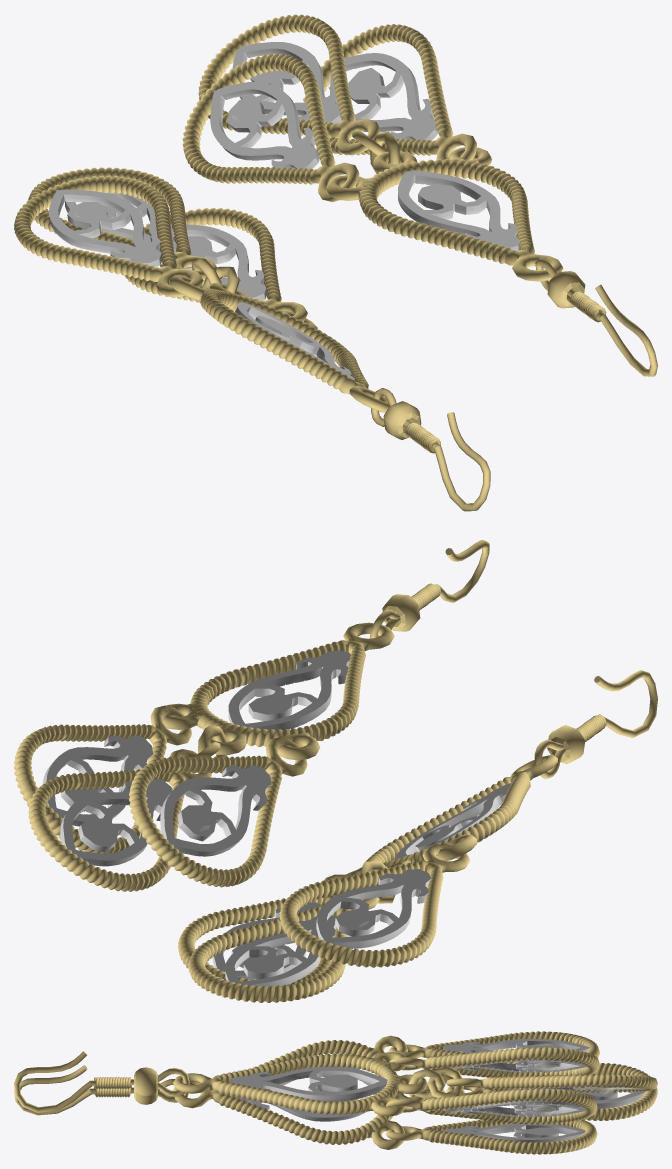
Rendered from 11763_earings_v1_L1.glb.
3 views of the same model, one above another, from view 1: azimuth 30°, elevation 25°; view 2: azimuth 150°, elevation 25°; view 3: azimuth 270°, elevation 25° (orthographic). The views are drawn at different scales.
Visible parts, largest first — view 1: 11763_Earings_gold4, 11763_Earings_gold1, 11763_Earings_gold007, 11763_Earings_gold010, 11763_Earings_gold2, 11763_Earings_silver3, 11763_Earings_silver1, 11763_Earings_silver006, 11763_Earings_gold3, 11763_Earings_silver2, 11763_Earings_gold006, 11763_Earings_gold008 (+8 smaller); view 2: 11763_Earings_gold4, 11763_Earings_gold1, 11763_Earings_gold007, 11763_Earings_silver3, 11763_Earings_gold2, 11763_Earings_silver1, 11763_Earings_silver006, 11763_Earings_gold3, 11763_Earings_gold006, 11763_Earings_gold010, 11763_Earings_silver4, 11763_Earings_silver005 (+7 smaller); view 3: 11763_Earings_gold4, 11763_Earings_gold010, 11763_Earings_gold3, 11763_Earings_gold1, 11763_Earings_silver1, 11763_Earings_gold008, 11763_Earings_gold2, 11763_Earings_1, 11763_Earings_silver007, 11763_Earings_gold007, 11763_Earings_gold006, 11763_Earings_silver2 (+9 smaller).
Part boxes in pixels (x1,y1,x2,y2): 11763_Earings_gold4: [326, 147, 563, 281]; 11763_Earings_gold1: [182, 53, 359, 201]; 11763_Earings_gold007: [14, 175, 203, 296]; 11763_Earings_gold010: [169, 275, 389, 412]; 11763_Earings_gold2: [198, 14, 380, 155]; 11763_Earings_silver3: [210, 81, 319, 169]; 11763_Earings_silver1: [398, 170, 519, 250]; 11763_Earings_silver006: [49, 189, 162, 267]; 11763_Earings_gold3: [301, 24, 476, 160]; 11763_Earings_silver2: [330, 53, 438, 140]; 11763_Earings_gold006: [28, 167, 216, 279]; 11763_Earings_gold008: [125, 208, 307, 321]; 11763_Earings_gold4: [162, 622, 394, 760]; 11763_Earings_gold1: [129, 737, 307, 887]; 11763_Earings_gold007: [279, 844, 470, 967]; 11763_Earings_silver3: [160, 764, 271, 856]; 11763_Earings_gold2: [28, 749, 211, 891]; 11763_Earings_silver1: [228, 650, 350, 730]; 11763_Earings_silver006: [316, 869, 431, 948]; 11763_Earings_gold3: [14, 705, 191, 853]; 11763_Earings_gold006: [188, 895, 379, 1002]; 11763_Earings_gold010: [346, 755, 557, 876]; 11763_Earings_silver4: [60, 778, 172, 866]; 11763_Earings_silver005: [225, 915, 336, 987]; 11763_Earings_gold4: [173, 1052, 427, 1116]; 11763_Earings_gold010: [173, 1035, 427, 1149]; 11763_Earings_gold3: [386, 1088, 597, 1124]; 11763_Earings_gold1: [389, 1047, 599, 1077]; 11763_Earings_silver1: [230, 1067, 387, 1101]; 11763_Earings_gold008: [386, 1119, 597, 1154]; 11763_Earings_gold2: [446, 1074, 657, 1092]; 11763_Earings_1: [14, 1051, 189, 1112]; 11763_Earings_silver007: [441, 1123, 585, 1142]; 11763_Earings_gold007: [388, 1031, 599, 1064]; 11763_Earings_gold006: [446, 1063, 657, 1120]; 11763_Earings_silver2: [442, 1100, 585, 1116].
Size of the model in its own units: 4.12 by 1.84 by 7.61.
